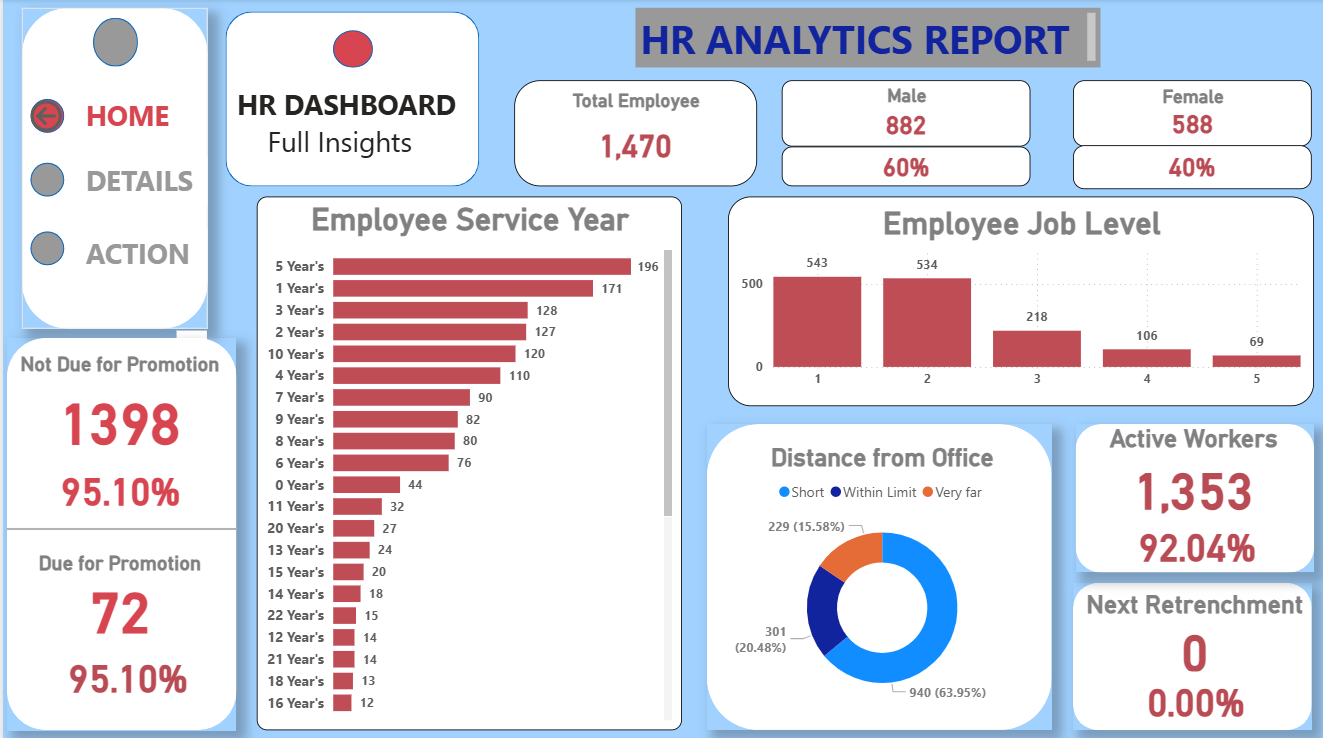

The page's visual inventory and layout, read from the dashboard file:
{"tool":"powerbi","page":{"name":"HOME","canvas":[1280,720],"ordinal":0},"visuals":[{"type":"shape","box":[18.1,8.4,179.8,310.1],"z":0},{"type":"shape","box":[3.6,326.9,222,378.8],"z":1000},{"type":"shape","box":[679.2,410.2,333,295.6],"z":2000},{"type":"shape","box":[1032.7,563.4,230.4,142.4],"z":3000},{"type":"shape","box":[1035.1,410.2,230.4,143.6],"z":4000},{"type":"card","title":"Total Employee","fields":{"Values":["DMeasure.Total Employee"]},"box":[493.4,78.4,234,102.5],"z":5000},{"type":"card","title":"Male","fields":{"Values":["DMeasure.Male"]},"box":[751.6,78.4,240.1,63.9],"z":6000},{"type":"card","title":"Female","fields":{"Values":["DMeasure.Female"]},"box":[1032.7,78.4,230.4,63.9],"z":7000},{"type":"card","title":"Female","fields":{"Values":["DMeasure.Male %"]},"box":[751.6,142.4,240.1,38.6],"z":8000},{"type":"card","fields":{"Values":["DMeasure.Female %"]},"box":[1032.7,141.2,230.4,42.2],"z":9000},{"type":"barChart","title":"Employee Service Year","fields":{"Category":["HR Analytics Data.Service Year"],"Y":["DMeasure.Total Employee"]},"box":[244.9,190.6,410.2,515.2],"z":10000},{"type":"clusteredColumnChart","title":" Employee Job Level","fields":{"Y":["DMeasure.Total Employee"],"Category":["HR Analytics Data.JobLevel"]},"box":[699.7,190.6,565.8,202.7],"z":11000},{"type":"donutChart","title":" Distance from Office","fields":{"Y":["DMeasure.Total Employee"],"Category":["HR Analytics Data.Distance for Office"]},"box":[693.5,428.3,310.1,261.8],"z":12000},{"type":"card","title":"Active Workers","fields":{"Values":["DMeasure.On Service"]},"box":[1038.7,410.2,220.8,91.7],"z":13000},{"type":"card","title":"Due for Promotion","fields":{"Values":["DMeasure.Due to Promotion"]},"box":[10.9,533.2,203.9,84.5],"z":14000},{"type":"card","title":"Not Due for Promotion","fields":{"Values":["DMeasure.Not Due"]},"box":[0,341.4,225.6,103.8],"z":15000},{"type":"card","title":"Next Retreanchment","fields":{"Values":["DMeasure.Next Retreanchment"]},"box":[1020.6,570.6,259.4,83.2],"z":16000},{"type":"card","fields":{"Values":["DMeasure.Not Due Promotion %"]},"box":[37.4,428.3,152,88.1],"z":17000},{"type":"shape","box":[3.6,501.9,222,19.3],"z":18000},{"type":"card","fields":{"Values":["DMeasure.Not Due Promotion %"]},"box":[43.4,609.3,154.4,88.1],"z":19000},{"type":"card","fields":{"Values":["DMeasure.Retreanch %"]},"box":[1083.4,632.2,136.3,88.1],"z":20000},{"type":"card","fields":{"Values":["DMeasure.Active %"]},"box":[1078.6,482.6,148.4,88.1],"z":21000},{"type":"shape","box":[214.7,12.1,244.9,168.9],"z":22000},{"type":"textbox","box":[220.8,78.4,234,90.5],"z":23000},{"type":"shape","box":[318.5,30.2,38.6,36.2],"z":24000},{"type":"shape","box":[26.5,96.5,32.6,32.6],"z":25000},{"type":"textbox","box":[74.8,89.3,114.6,51.9],"z":26000},{"type":"shape","box":[26.5,158,32.6,32.6],"z":27000},{"type":"shape","box":[26.5,224.4,32.6,32.6],"z":28000},{"type":"textbox","box":[75,152.5,122.5,47.5],"z":29000},{"type":"textbox","box":[75,222.5,122.5,50],"z":30000},{"type":"shape","box":[86.9,18.1,43.4,47.1],"z":31000},{"type":"actionButton","box":[18.3,155.8,181.7,40],"z":32000},{"type":"actionButton","box":[18.3,222.5,181.7,40],"z":33000},{"type":"textbox","box":[610.5,8.4,448.8,57.9],"z":34000},{"type":"actionButton","box":[21.2,92.5,158.8,40],"z":35000}]}

Visuals, with their boxes in screenshot pixels (x1, y1, x2, y2), scaled from the page's 1280x720 canvas onto the 1323x738 screenshot:
shape: 19:9:205:326
shape: 4:335:233:723
shape: 702:420:1046:723
shape: 1067:577:1306:723
shape: 1070:420:1308:568
"Total Employee" card: 510:80:752:185
"Male" card: 777:80:1025:146
"Female" card: 1067:80:1306:146
"Female" card: 777:146:1025:186
card - DMeasure.Female %: 1067:145:1306:188
"Employee Service Year" barChart: 253:195:677:723
" Employee Job Level" clusteredColumnChart: 723:195:1308:403
" Distance from Office" donutChart: 717:439:1037:707
"Active Workers" card: 1074:420:1302:514
"Due for Promotion" card: 11:547:222:633
"Not Due for Promotion" card: 0:350:233:456
"Next Retreanchment" card: 1055:585:1322:670
card - DMeasure.Not Due Promotion %: 39:439:196:529
shape: 4:514:233:534
card - DMeasure.Not Due Promotion %: 45:625:204:715
card - DMeasure.Retreanch %: 1120:648:1261:737
card - DMeasure.Active %: 1115:495:1268:585
shape: 222:12:475:186
textbox: 228:80:470:173
shape: 329:31:369:68
shape: 27:99:61:132
textbox: 77:92:196:145
shape: 27:162:61:195
shape: 27:230:61:263
textbox: 78:156:204:205
textbox: 78:228:204:279
shape: 90:19:135:67
actionButton: 19:160:207:201
actionButton: 19:228:207:269
textbox: 631:9:1095:68
actionButton: 22:95:186:136
